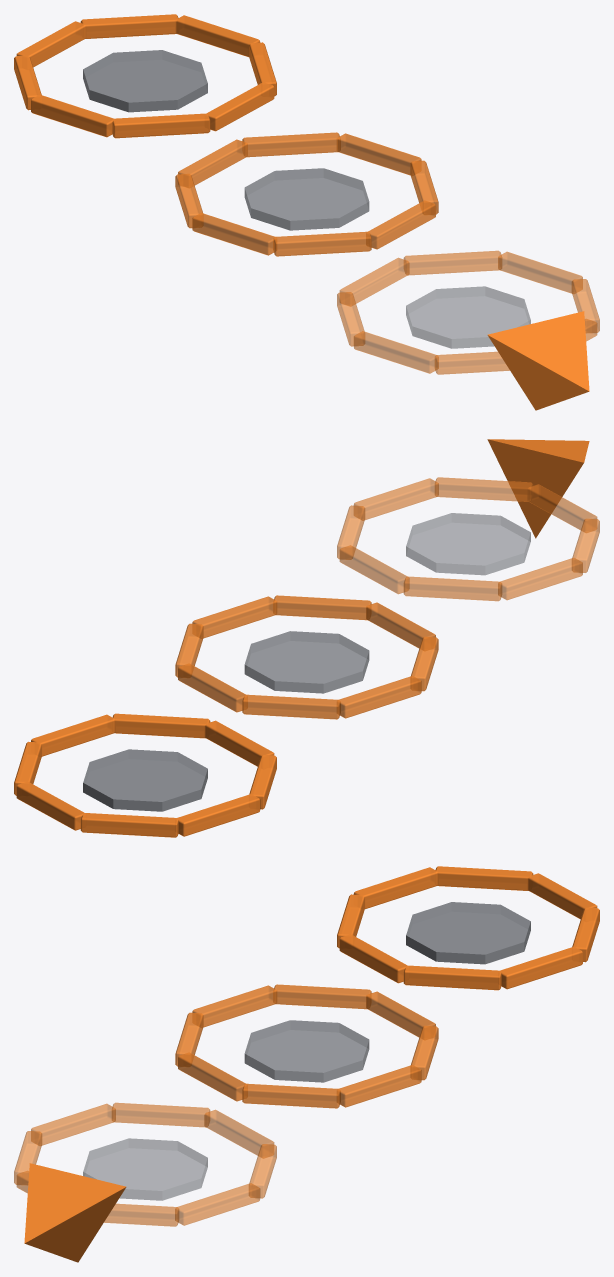
The model's file is gravel_blink.glb.
The picture shows the model from 3 angles, top to bottom: view 1: azimuth 30°, elevation 25°; view 2: azimuth 150°, elevation 25°; view 3: azimuth 330°, elevation 25°; orthographic projection.
Visible parts, largest first — view 1: arrow, pad_core_1, pad_core_0, pad_core_2, pad_1_2, pad_0_2, pad_1_6, pad_2_6, pad_0_6, pad_1_3, pad_2_3, pad_2_7 (+15 smaller); view 2: pad_core_1, pad_core_0, pad_core_2, arrow, pad_1_5, pad_2_5, pad_0_5, pad_1_1, pad_2_1, pad_0_1, pad_1_4, pad_2_4 (+16 smaller); view 3: arrow, pad_core_1, pad_core_0, pad_core_2, pad_1_1, pad_0_1, pad_1_5, pad_2_5, pad_0_5, pad_1_0, pad_2_0, pad_2_4 (+15 smaller).
Boxes of the visible parts, x1=… form: arrow: x1=487, y1=311, x2=589, y2=410; pad_core_1: x1=244, y1=168, x2=369, y2=230; pad_core_0: x1=83, y1=50, x2=207, y2=112; pad_core_2: x1=406, y1=286, x2=530, y2=348; pad_1_2: x1=273, y1=231, x2=371, y2=256; pad_0_2: x1=112, y1=113, x2=210, y2=138; pad_1_6: x1=242, y1=132, x2=340, y2=157; pad_2_6: x1=403, y1=250, x2=501, y2=275; pad_0_6: x1=80, y1=14, x2=178, y2=38; pad_1_3: x1=192, y1=213, x2=276, y2=255; pad_2_3: x1=353, y1=331, x2=438, y2=373; pad_2_7: x1=498, y1=251, x2=582, y2=293; pad_core_1: x1=244, y1=631, x2=369, y2=693; pad_core_0: x1=83, y1=749, x2=207, y2=811; pad_core_2: x1=406, y1=513, x2=530, y2=575; arrow: x1=487, y1=439, x2=589, y2=538; pad_1_5: x1=242, y1=694, x2=340, y2=719; pad_2_5: x1=403, y1=576, x2=501, y2=601; pad_0_5: x1=80, y1=813, x2=178, y2=837; pad_1_1: x1=273, y1=595, x2=371, y2=620; pad_2_1: x1=435, y1=477, x2=533, y2=501; pad_0_1: x1=112, y1=713, x2=210, y2=738; pad_1_4: x1=337, y1=676, x2=421, y2=718; pad_2_4: x1=498, y1=558, x2=582, y2=600; arrow: x1=24, y1=1163, x2=126, y2=1262; pad_core_1: x1=244, y1=1020, x2=369, y2=1082; pad_core_0: x1=406, y1=902, x2=530, y2=964; pad_core_2: x1=83, y1=1138, x2=207, y2=1200; pad_1_1: x1=242, y1=1083, x2=340, y2=1108; pad_0_1: x1=403, y1=965, x2=501, y2=990; pad_1_5: x1=273, y1=984, x2=371, y2=1009; pad_2_5: x1=112, y1=1102, x2=210, y2=1127; pad_0_5: x1=435, y1=866, x2=533, y2=890; pad_1_0: x1=337, y1=1065, x2=421, y2=1107; pad_2_0: x1=175, y1=1183, x2=260, y2=1225; pad_2_4: x1=31, y1=1103, x2=115, y2=1145.
Bounding box in the file's own units: 0.5011 × 0.18 × 1.9.
